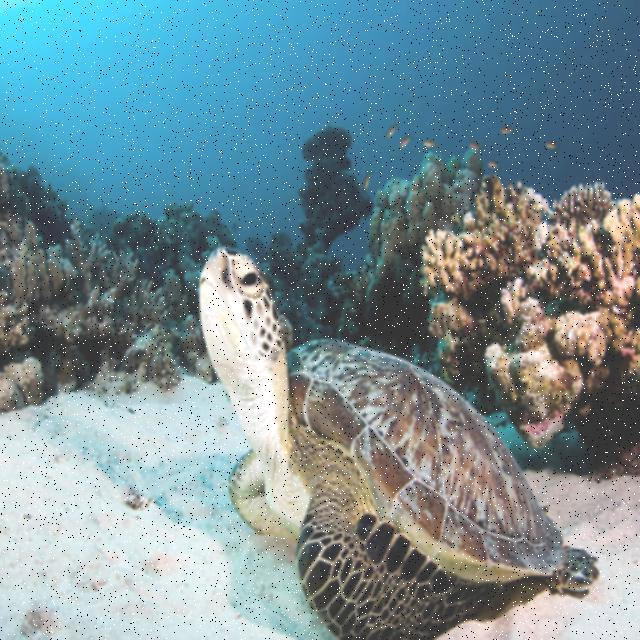tortoise: (193, 216, 591, 640)
